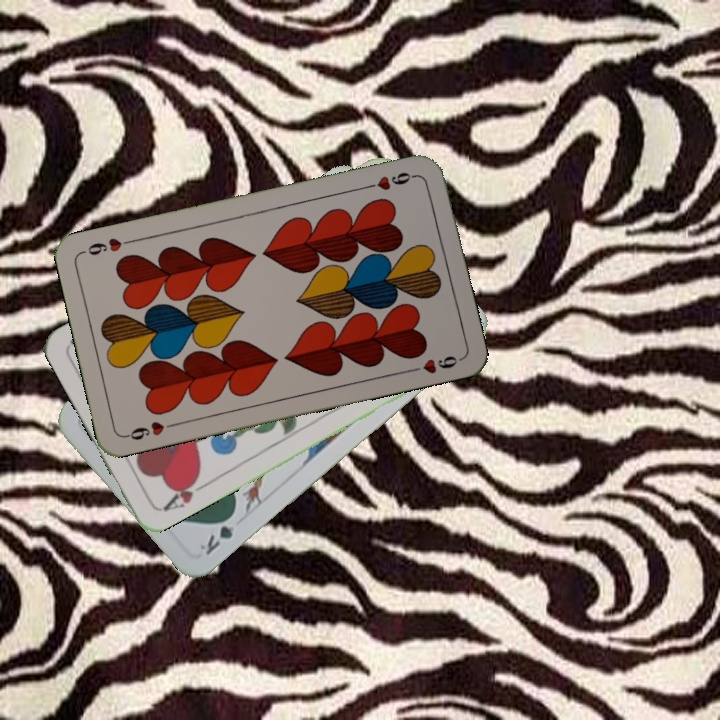GK: (195, 508, 239, 558)
H9: (121, 417, 179, 443), (361, 168, 420, 193)
HA: (158, 471, 211, 514)
